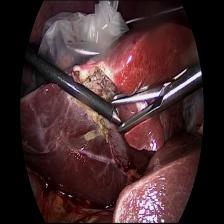Grasper: (110, 68, 186, 142)
Specimen Bag: (39, 0, 128, 72)
